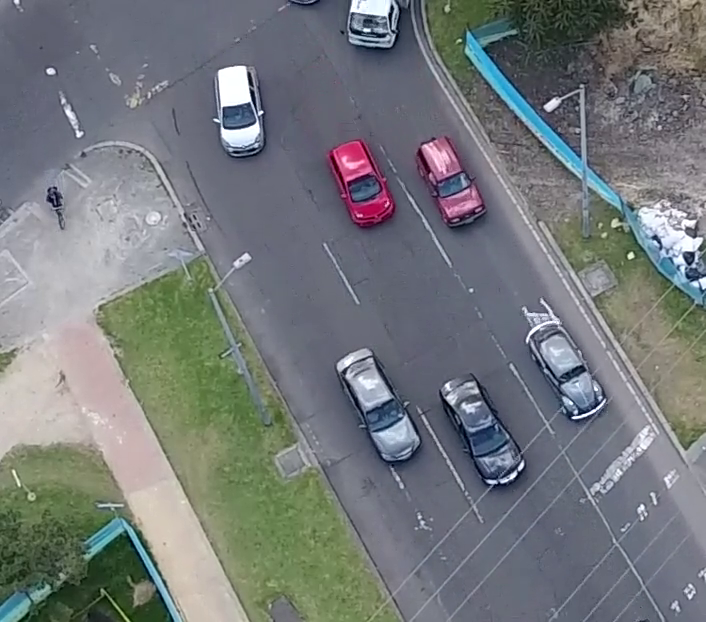car: (329, 346, 421, 468), (436, 371, 526, 490), (523, 311, 606, 425), (415, 131, 485, 230), (325, 138, 396, 230), (211, 61, 269, 160)
